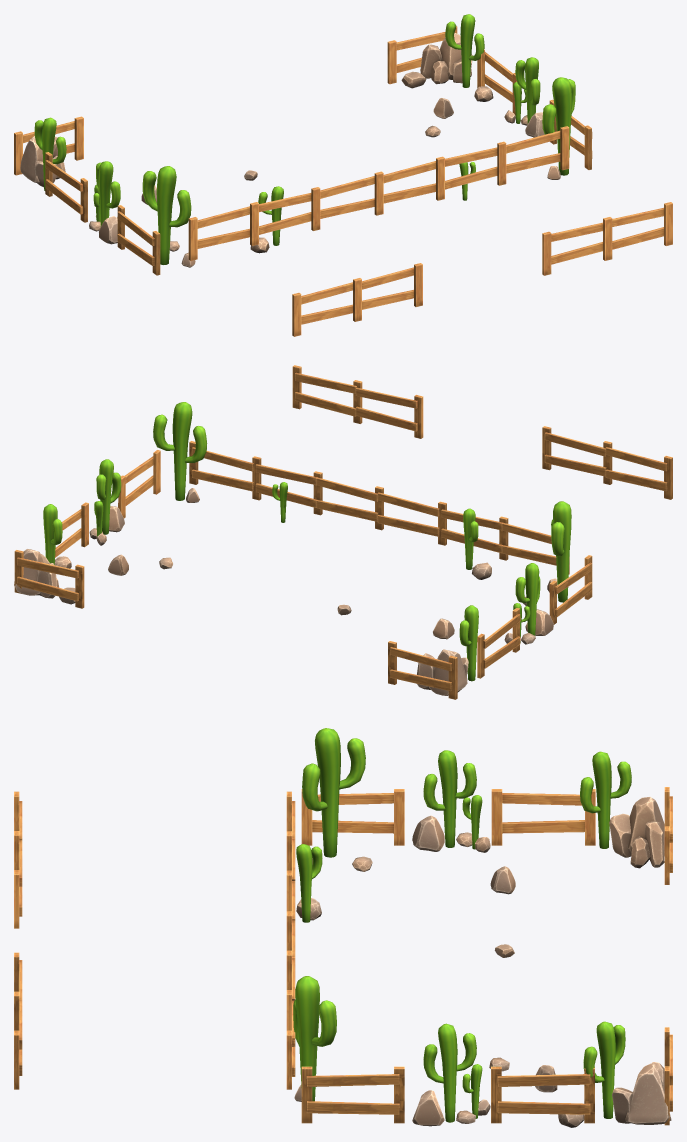
Rendered from obj_fence.gltf.
3 views of the same model, one above another, from view 1: azimuth 30°, elevation 25°; view 2: azimuth 150°, elevation 25°; view 3: azimuth 270°, elevation 25° (orthographic). The views are drawn at different scales.
Visible parts, largest first — view 1: obj_fence; view 2: obj_fence; view 3: obj_fence.
Boxes of the visible parts, left/top/right/bottom form: obj_fence: left=14, top=14, right=672, bottom=336; obj_fence: left=14, top=365, right=672, bottom=699; obj_fence: left=14, top=728, right=672, bottom=1127.
Size of what is drawn, in the model's own units: 15.9 by 3.44 by 15.42.
Materials: 3 (3 with a texture image).
